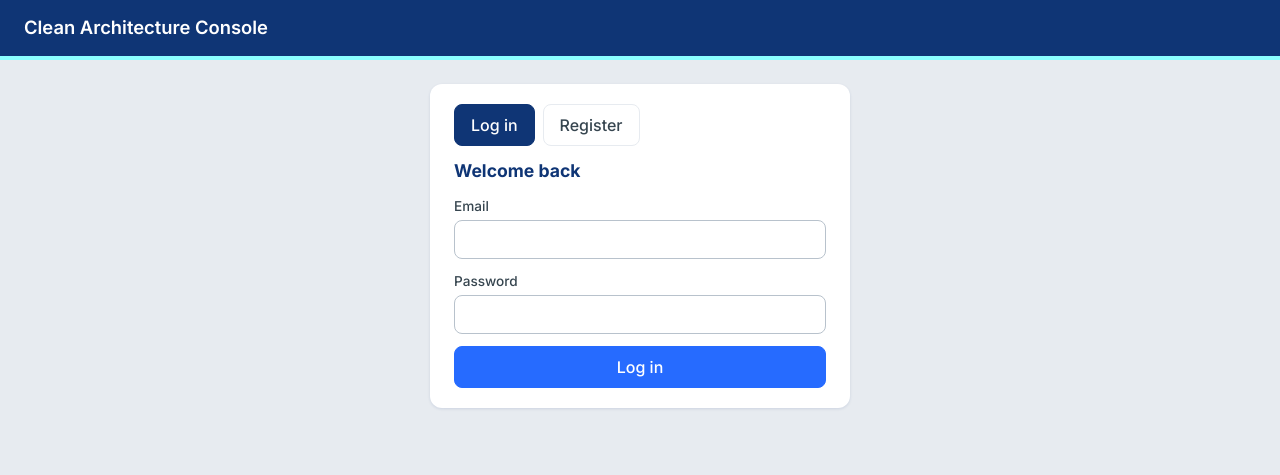
login errors › mc20 server unreachable shows a network message
Type "admin@example.com" into the field labelled "Email" at (640, 240), box [454,220,826,259]
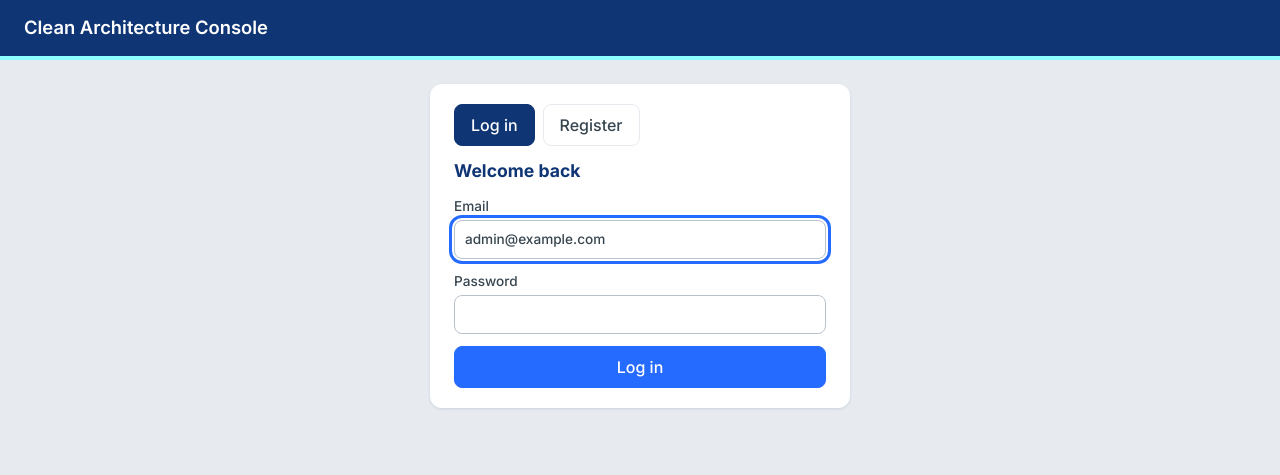
Type "Passw0rd!" into the password field labelled "Password" at (640, 314), box [454,295,826,334]
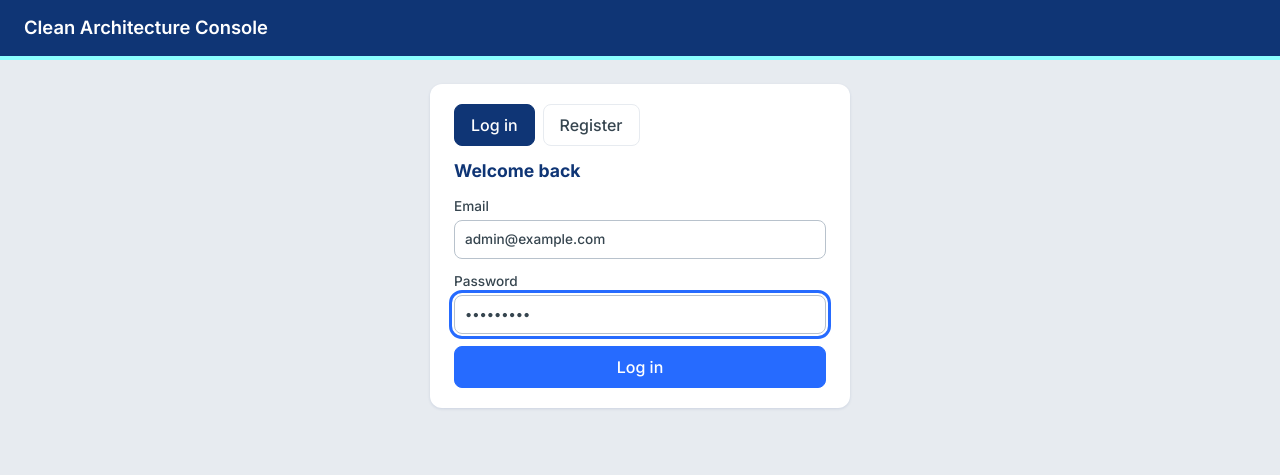
Click the button "Log in" at (640, 367), box [454,346,826,388]
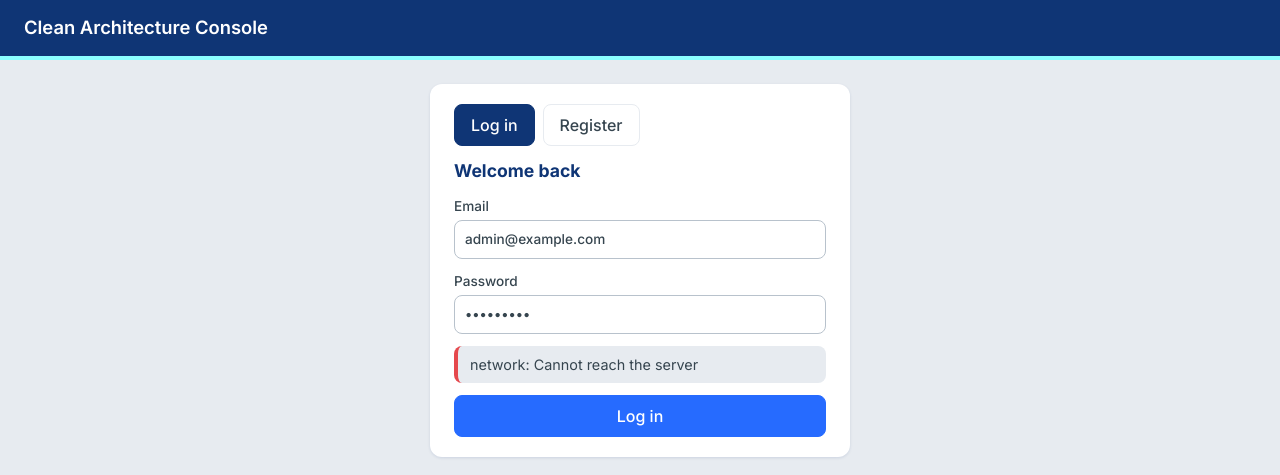
Check: the message reads "network: Cannot reach the server", box [470,356,698,373]
